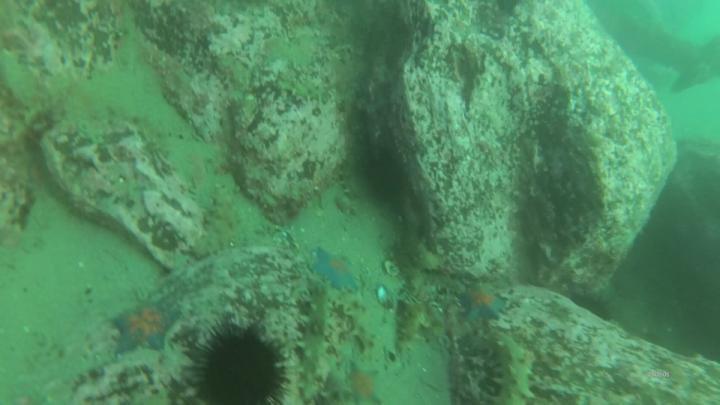echinus: (193, 324, 284, 405), (362, 151, 412, 206)
holothurian: (300, 288, 332, 398), (194, 187, 239, 260), (491, 330, 533, 405), (396, 302, 434, 356), (408, 244, 442, 289)
starfish: (106, 296, 181, 358), (310, 245, 364, 294), (457, 278, 509, 325), (345, 360, 383, 405)
